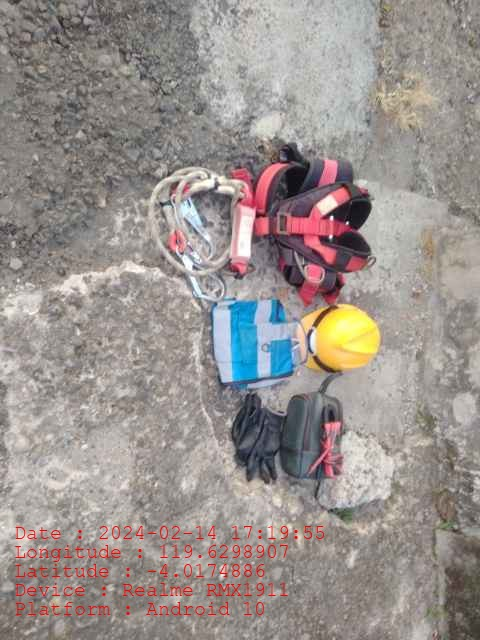HELM: (298, 304, 380, 372)
ROMPI: (210, 296, 295, 387)
TAMBANG_SLING: (146, 165, 254, 275)
